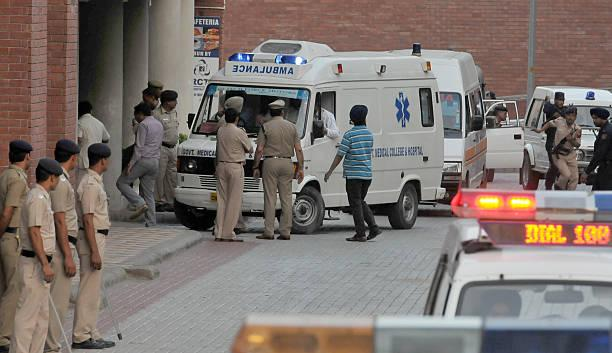AMBULANCE: (448, 178, 612, 221), (223, 47, 305, 86), (213, 73, 307, 102), (374, 142, 430, 166), (388, 89, 416, 133), (456, 127, 487, 162), (435, 88, 460, 105), (406, 42, 424, 57)
